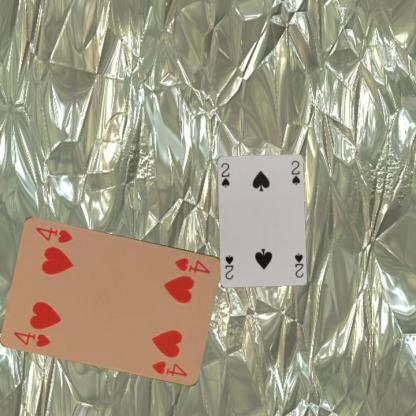2s: (292, 250, 304, 279), (219, 160, 230, 188)
4h: (172, 255, 212, 274), (12, 329, 52, 348)
